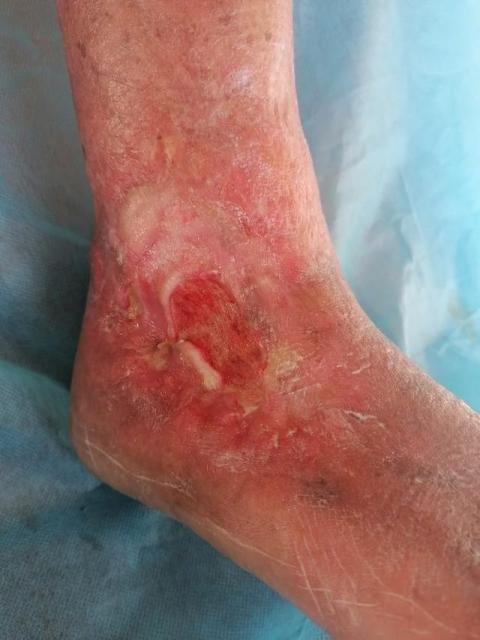wound: (166, 260, 280, 414), (106, 271, 171, 369)
